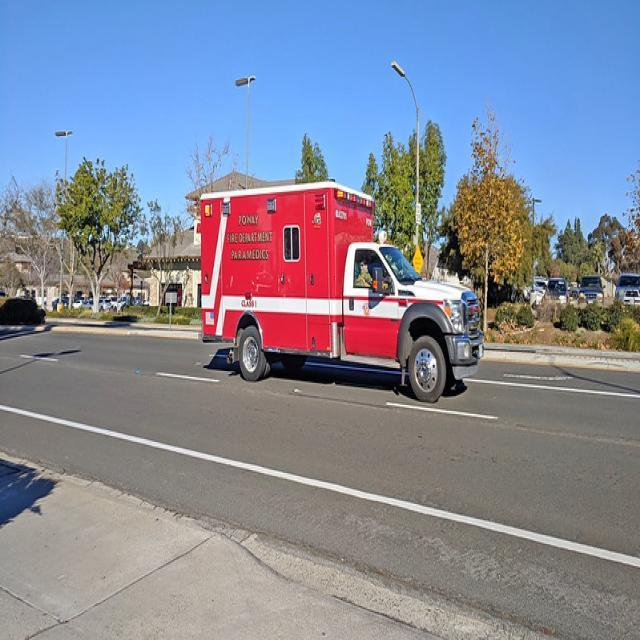emergency: (191, 187, 481, 405)
